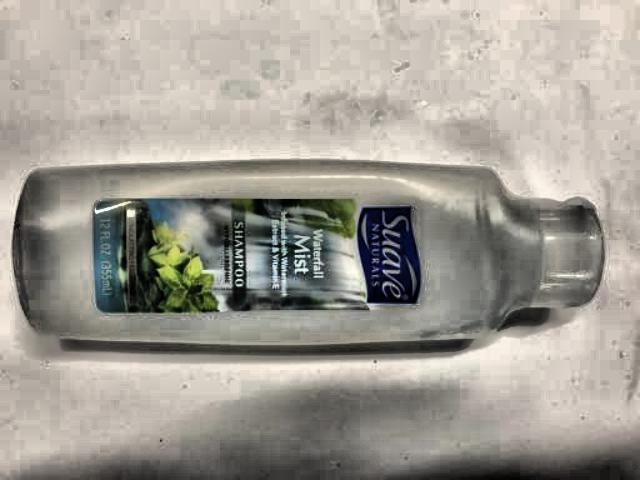Plastic: (7, 140, 638, 386)
